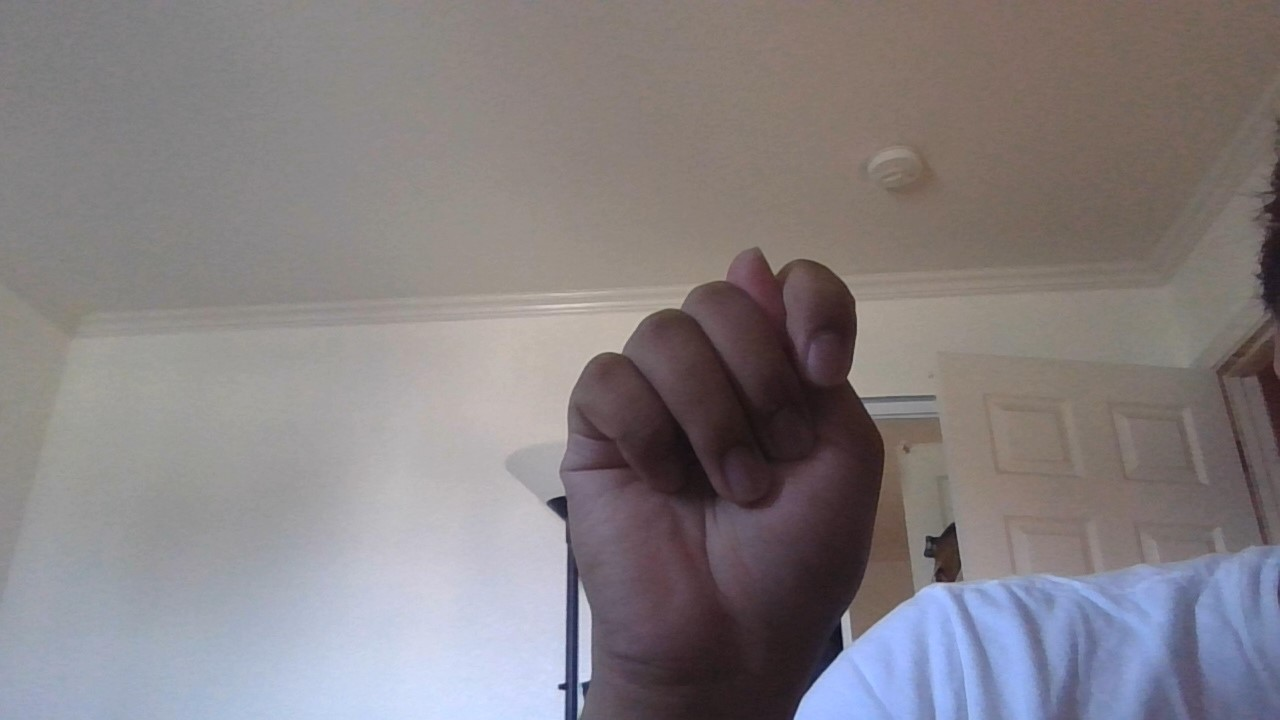t: (536, 222, 941, 693)
